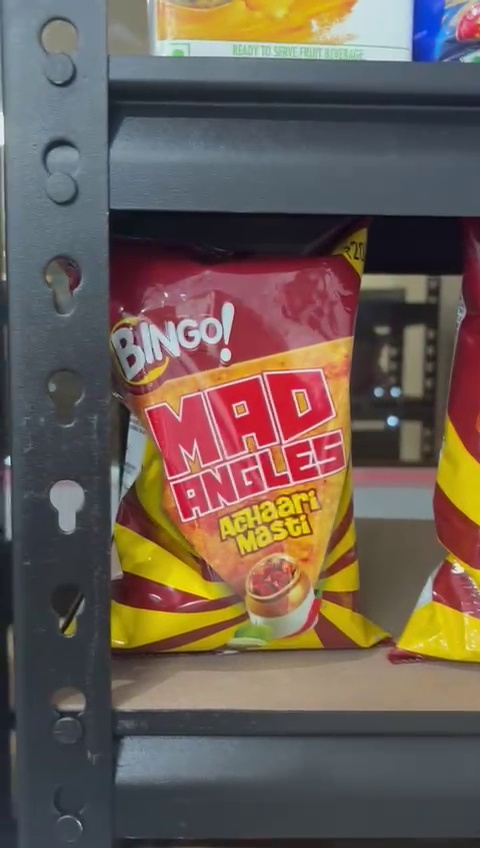Bingo Mad Angles: (105, 220, 381, 671)
